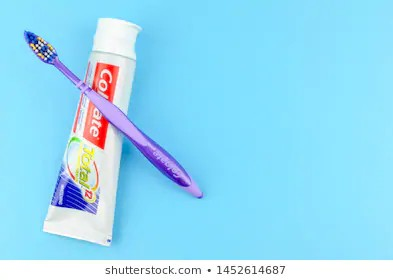colgate-total-150gm: (41, 13, 148, 238)
toothbrush: (15, 20, 78, 101)
